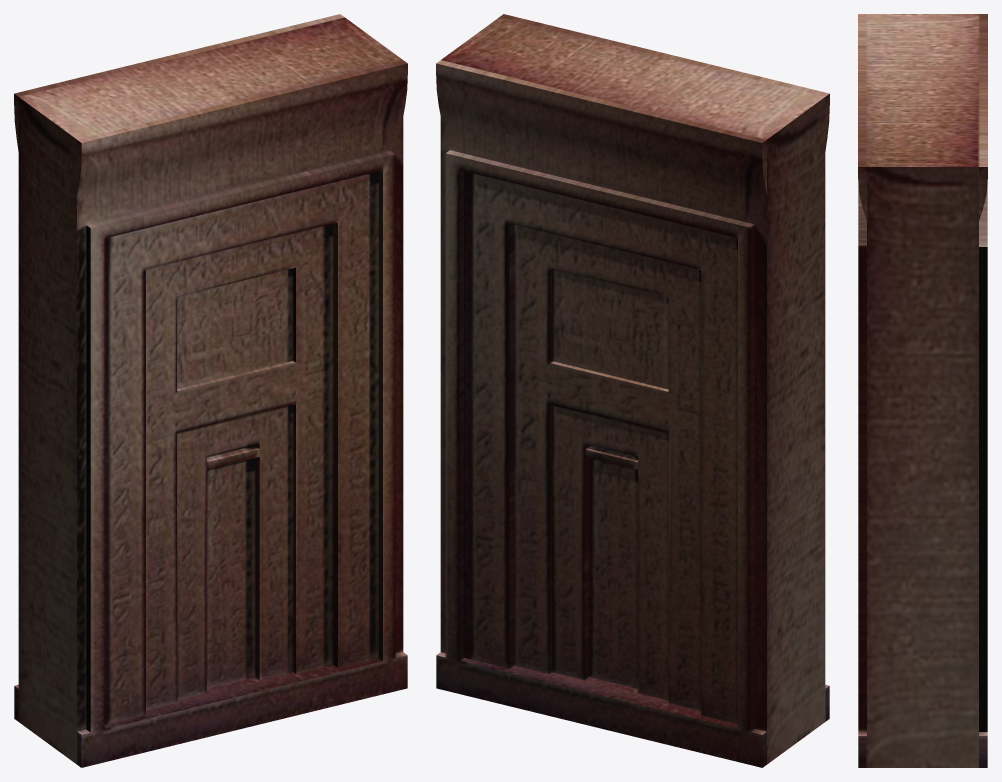
The model's file is giant_door.obj.
3 renders of one model, left to right at view 1: azimuth 30°, elevation 25°; view 2: azimuth 150°, elevation 25°; view 3: azimuth 270°, elevation 25°, orthographic. The views are drawn at different scales.
Parts seen in each view (by area): view 1: Giant_Door; view 2: Giant_Door; view 3: Giant_Door.
Part boxes in pixels (<box>): Giant_Door: <box>14,14,407,767</box>; Giant_Door: <box>436,14,829,767</box>; Giant_Door: <box>858,14,987,767</box>.
Size of the model in its own units: 4.97 by 9.1 by 1.78.
1 material, 1 textured.
